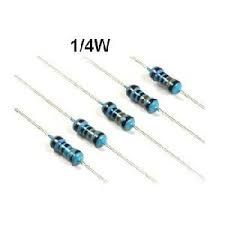resistor: (45, 134, 91, 172), (120, 84, 170, 114), (144, 64, 189, 96), (97, 96, 140, 129), (71, 116, 112, 149)
